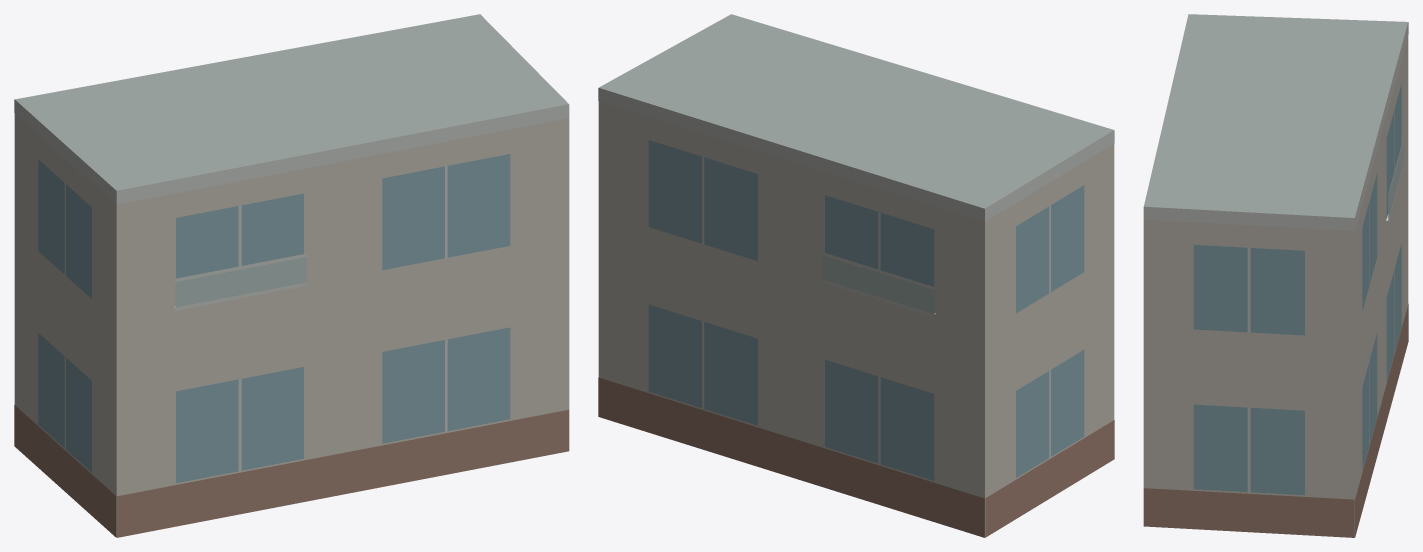
File: survey-upis-32611076.glb
3 views of the same model, side by side, from view 1: azimuth 30°, elevation 25°; view 2: azimuth 150°, elevation 25°; view 3: azimuth 270°, elevation 25° (orthographic). The views are drawn at different scales.
Parts seen in each view (by area): view 1: survey-upis-32611076.tmp; view 2: survey-upis-32611076.tmp; view 3: survey-upis-32611076.tmp.
Part boxes in pixels (x1,y1,x2,y2): survey-upis-32611076.tmp: (14,14,569,537); survey-upis-32611076.tmp: (598,14,1114,537); survey-upis-32611076.tmp: (1143,14,1408,537).
Size of the model in its own units: 8.36 by 6.1 by 4.59.
